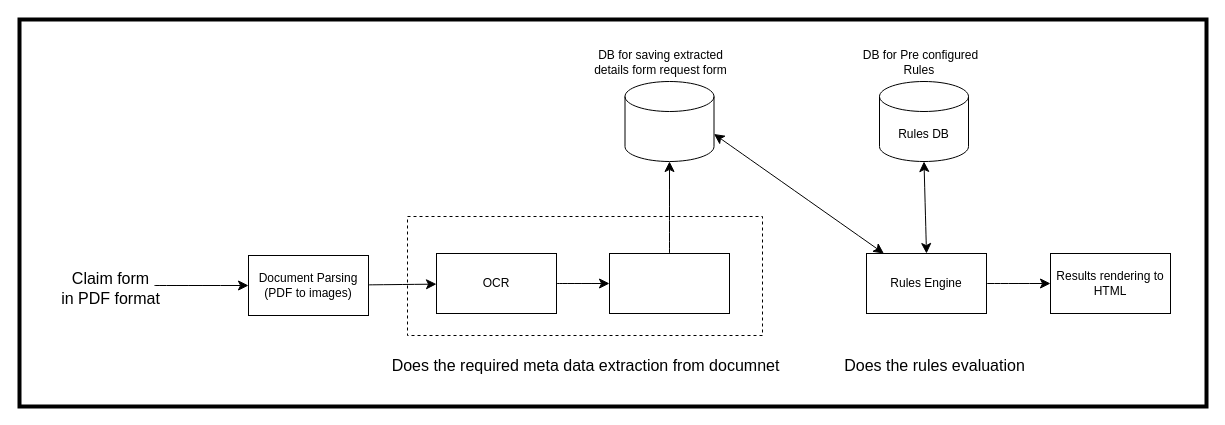
Image size: 1225x425. Some labels were removed from this diagram. Each missing label, with the centre of its shape:
"Claimforms DB" belongs at (x=669, y=121).
"Data Preprocessing" belongs at (x=669, y=283).
